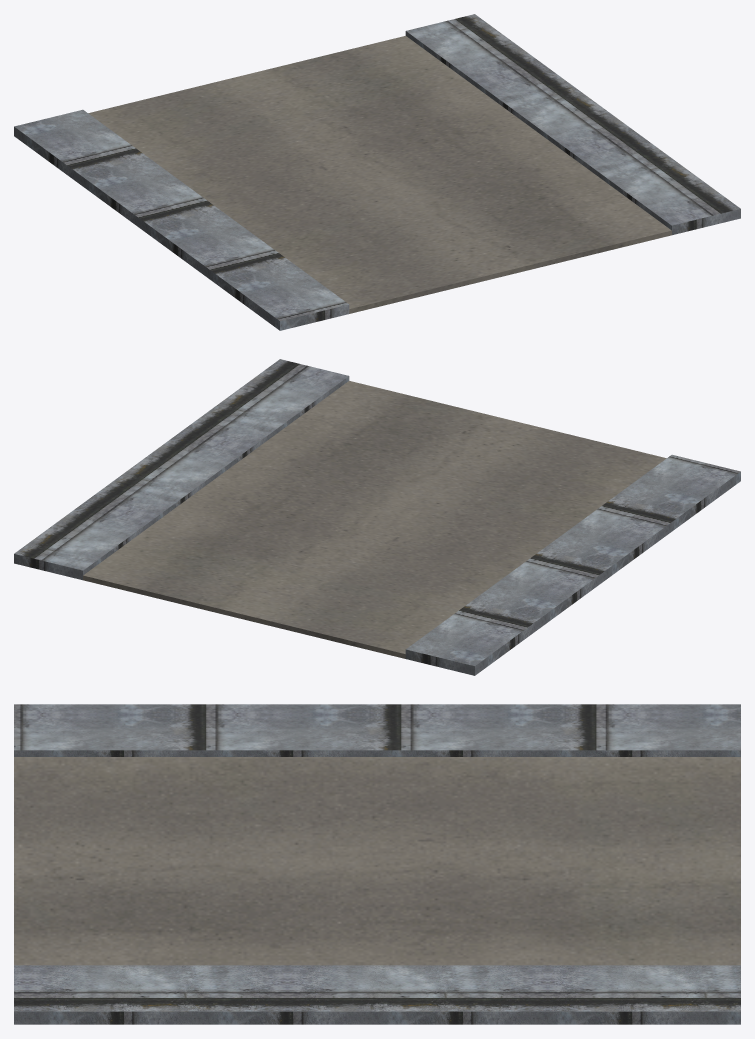
Rendered from Urban_Road3Straight_Model.fbx.
The picture shows the model from 3 angles, top to bottom: view 1: azimuth 30°, elevation 25°; view 2: azimuth 150°, elevation 25°; view 3: azimuth 270°, elevation 25°; orthographic projection. The views are drawn at different scales.
Parts seen in each view (by area): view 1: Urban_Road3Straight_Mesh; view 2: Urban_Road3Straight_Mesh; view 3: Urban_Road3Straight_Mesh.
Part boxes in pixels (x1=…): Urban_Road3Straight_Mesh: x1=14, y1=14, x2=740, y2=330; Urban_Road3Straight_Mesh: x1=14, y1=359, x2=740, y2=675; Urban_Road3Straight_Mesh: x1=14, y1=704, x2=740, y2=1024.
Bounding box in the file's own units: 16 × 0.32 × 16.
